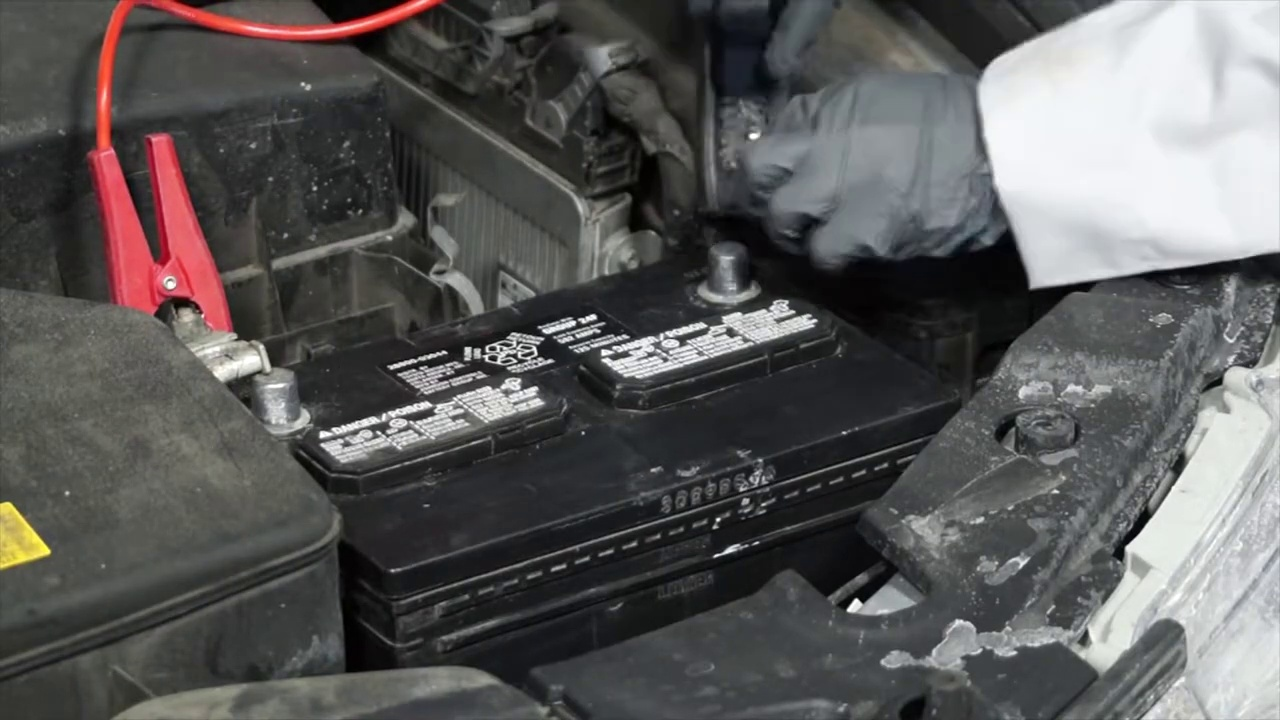battery: (174, 229, 955, 536)
neg_touched: (659, 99, 839, 318)
pos_disconnected: (85, 185, 326, 437)
